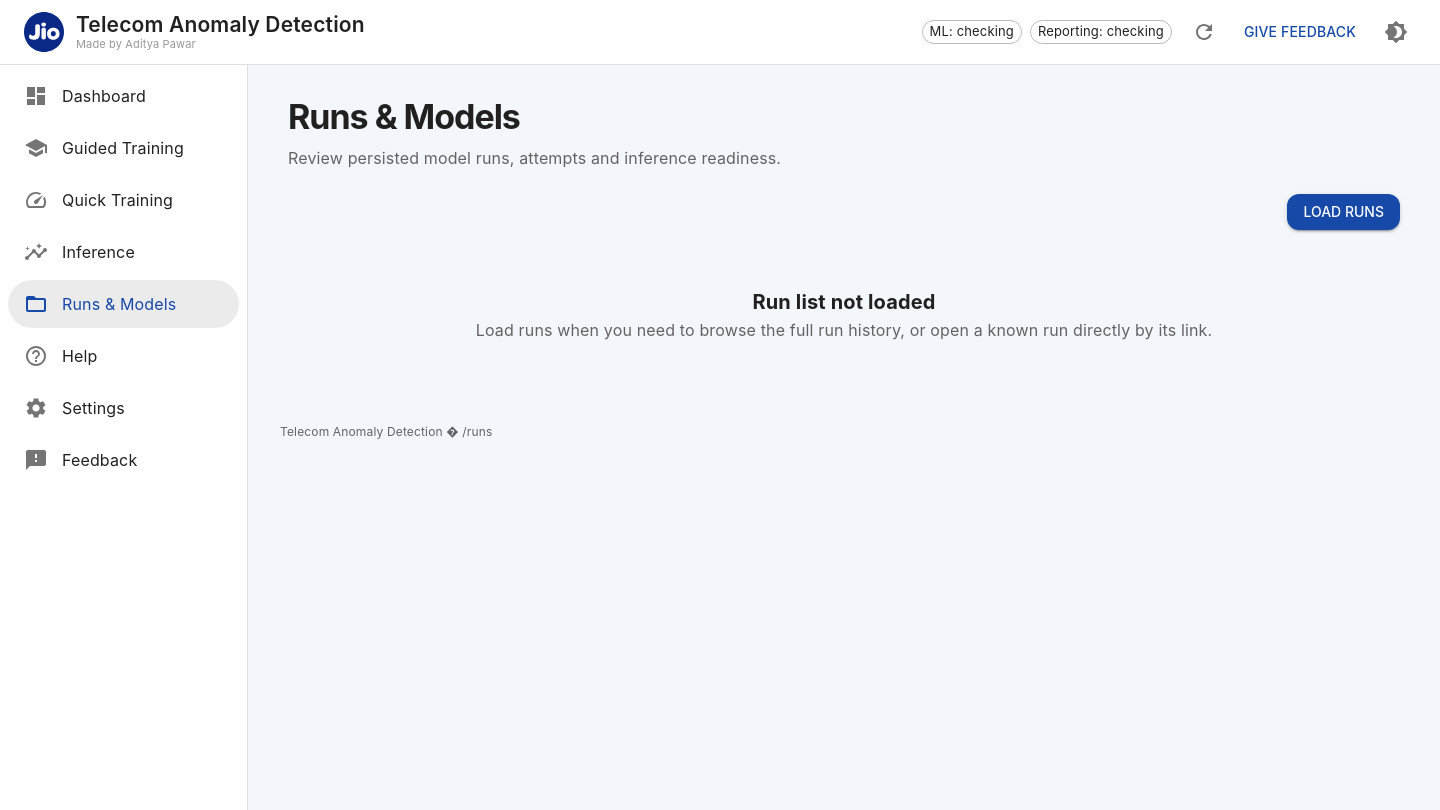
it: Level 1 Runs & Models › shows runs loading state
This screenshot has width=1440, height=810.
Step 1. Click the button "Load runs" → (1344, 212), box [1287,194,1400,230]
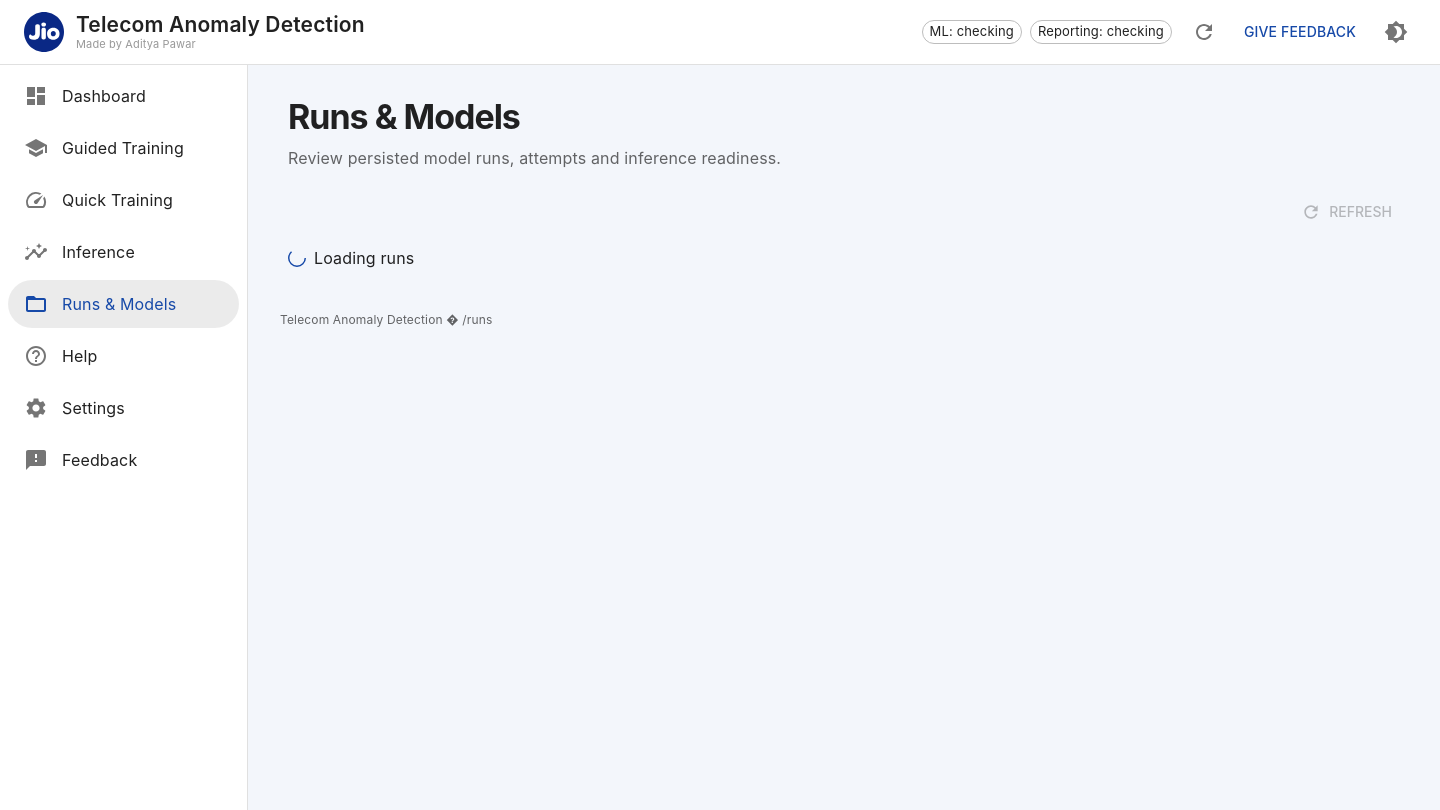
Expected: the text "Loading runs" is shown, [314,246,414,270]
